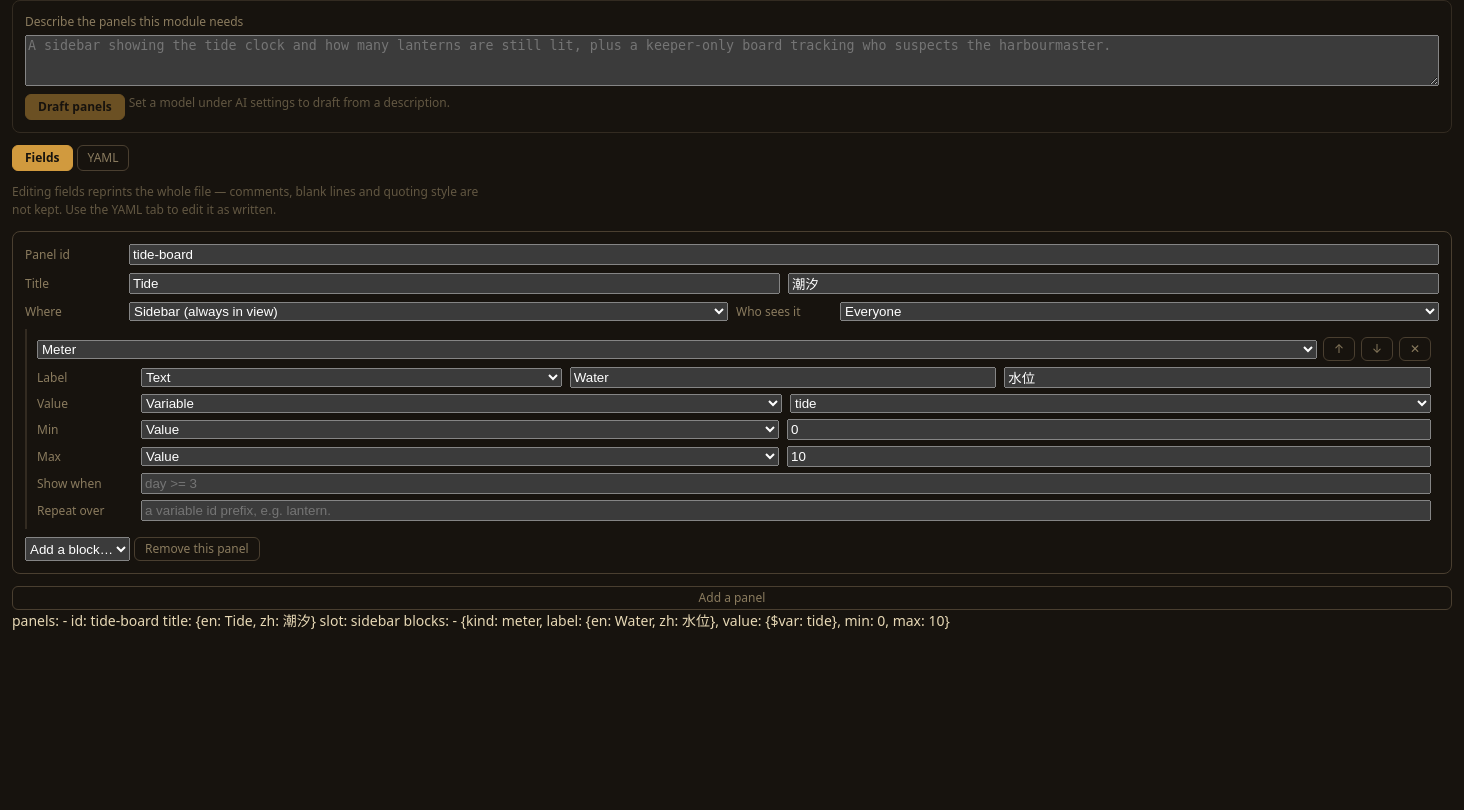
Scenario: PanelsEditor › keeps the author's cursor: typing several characters lands them all, in one field
Type "-two" into the field named "Panel id" at (784, 254), box [129,244,1439,265]
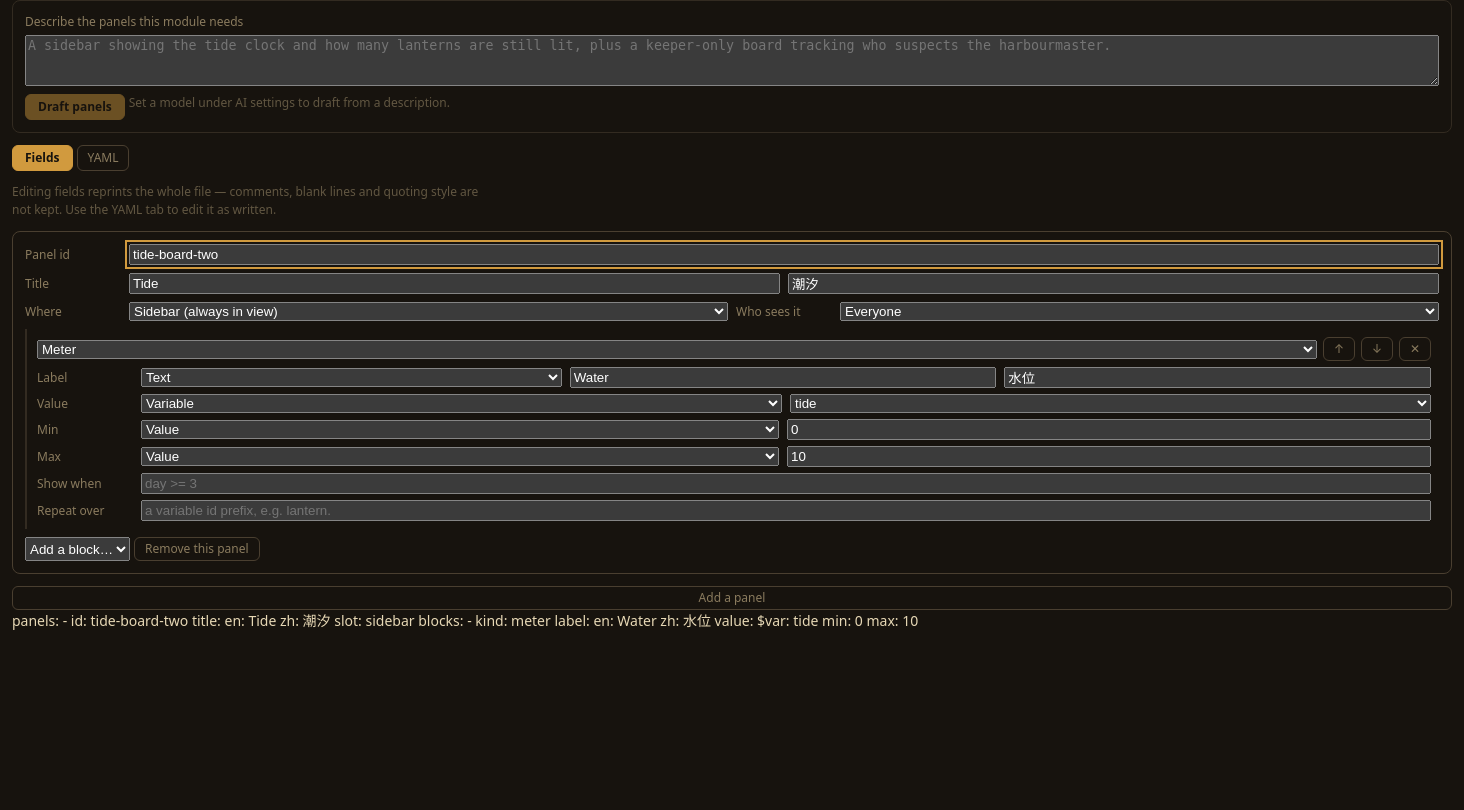
Result: the field named "Panel id" holds "tide-board-two" at [129,244,1439,265]
Result: the text with test id "stored" shows "id: tide-board-two" at [12,611,918,630]
